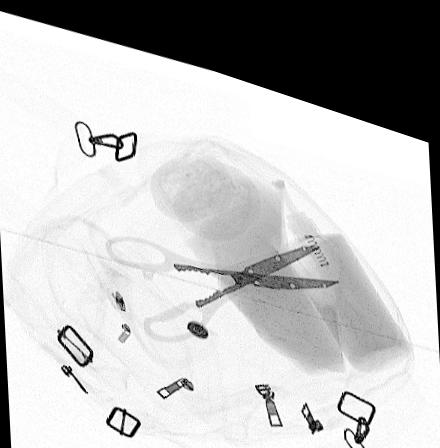Scissors: (105, 222, 342, 334)
